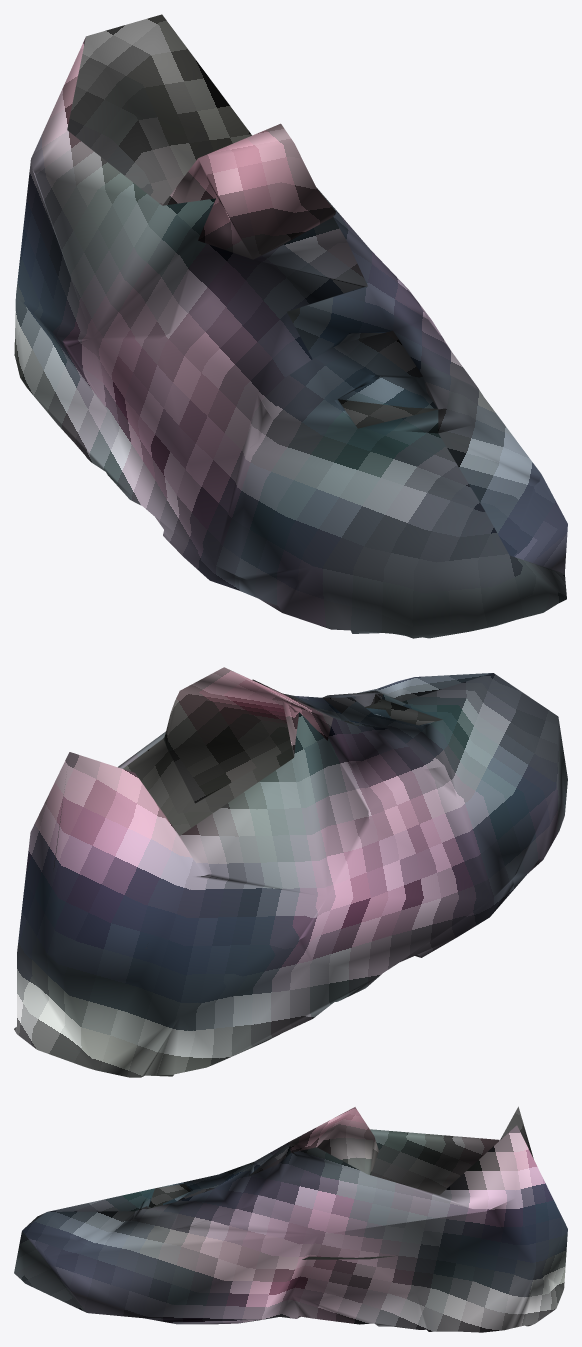
File: DRAGON_W-low.glb
3 views of the same model, one above another, from view 1: azimuth 30°, elevation 25°; view 2: azimuth 150°, elevation 25°; view 3: azimuth 270°, elevation 25° (orthographic). The views are drawn at different scales.
Parts seen in each view (by area): view 1: DRAGON_W; view 2: DRAGON_W; view 3: DRAGON_W.
Boxes of the visible parts, x1=… form: DRAGON_W: x1=14, y1=14, x2=567, y2=638; DRAGON_W: x1=14, y1=667, x2=567, y2=1077; DRAGON_W: x1=14, y1=1106, x2=567, y2=1332.
Bounding box in the file's own units: 0.0874 × 0.1018 × 0.2603.
Materials: 1 (1 with a texture image).
